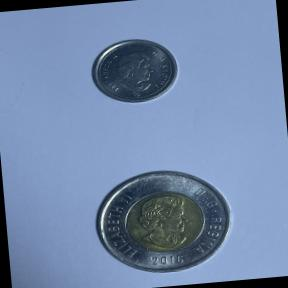Canada-10cent-B: (84, 32, 182, 110)
Canada-2Dollar-B: (86, 160, 240, 282)
